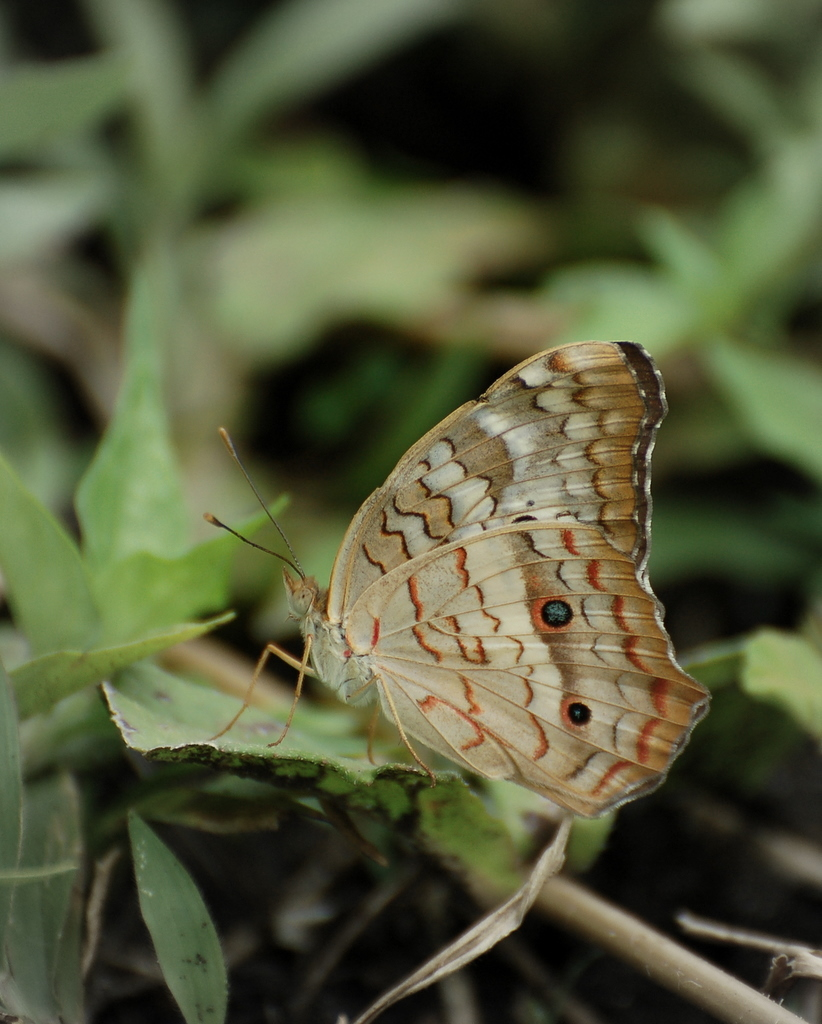Butterfly: (178, 334, 716, 822)
